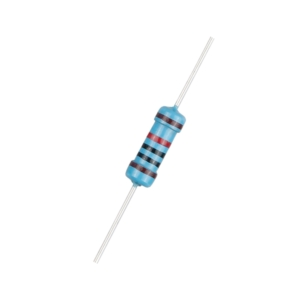resistor: (114, 95, 197, 201)
